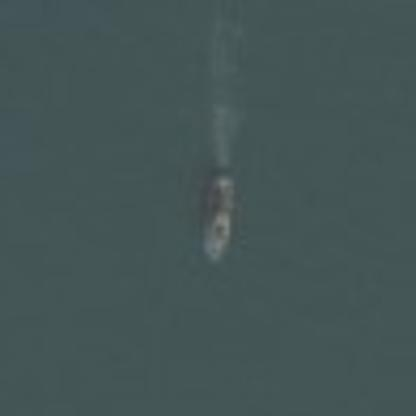ship: (195, 162, 242, 265)
